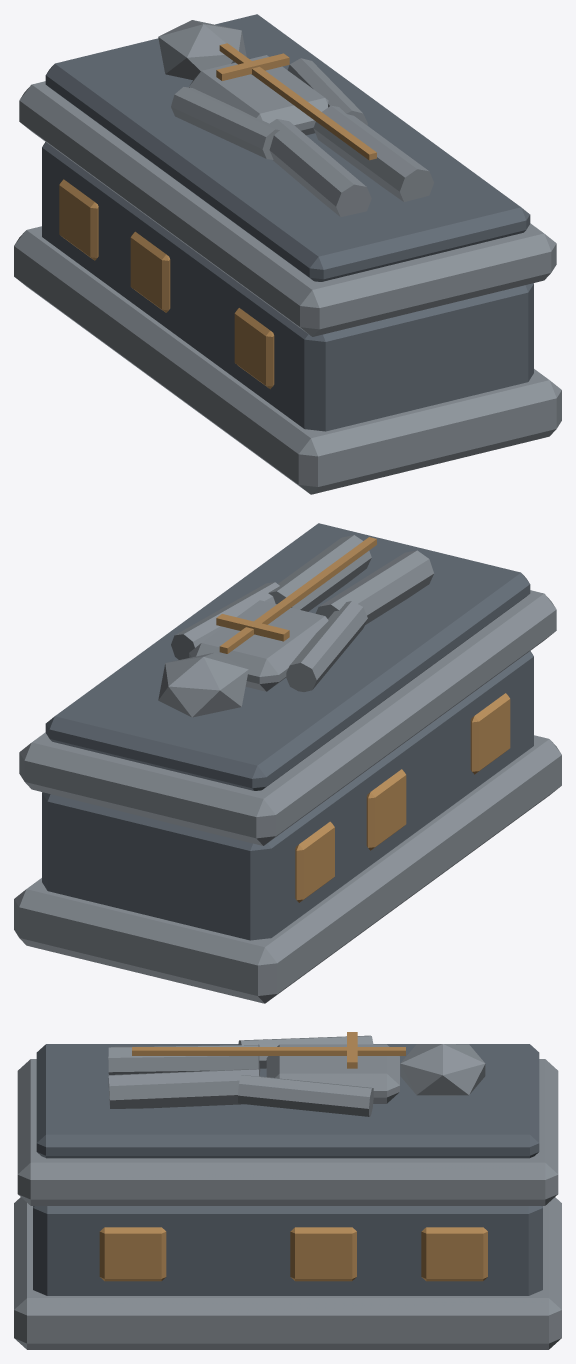
Rendered from sarcophagus.glb.
3 renders of one model, top to bottom at view 1: azimuth 30°, elevation 25°; view 2: azimuth 150°, elevation 25°; view 3: azimuth 270°, elevation 25°, orthographic. The views are drawn at different scales.
Visible parts, largest first — view 1: sarcophagus_body_mesh; view 2: sarcophagus_body_mesh; view 3: sarcophagus_body_mesh.
Boxes of the visible parts, x1,y1,x2,y2 form: sarcophagus_body_mesh: (14, 14, 561, 494); sarcophagus_body_mesh: (14, 523, 561, 1003); sarcophagus_body_mesh: (14, 1032, 561, 1349).
Bounding box in the file's own units: 1.17 × 1.17 × 2.3.
